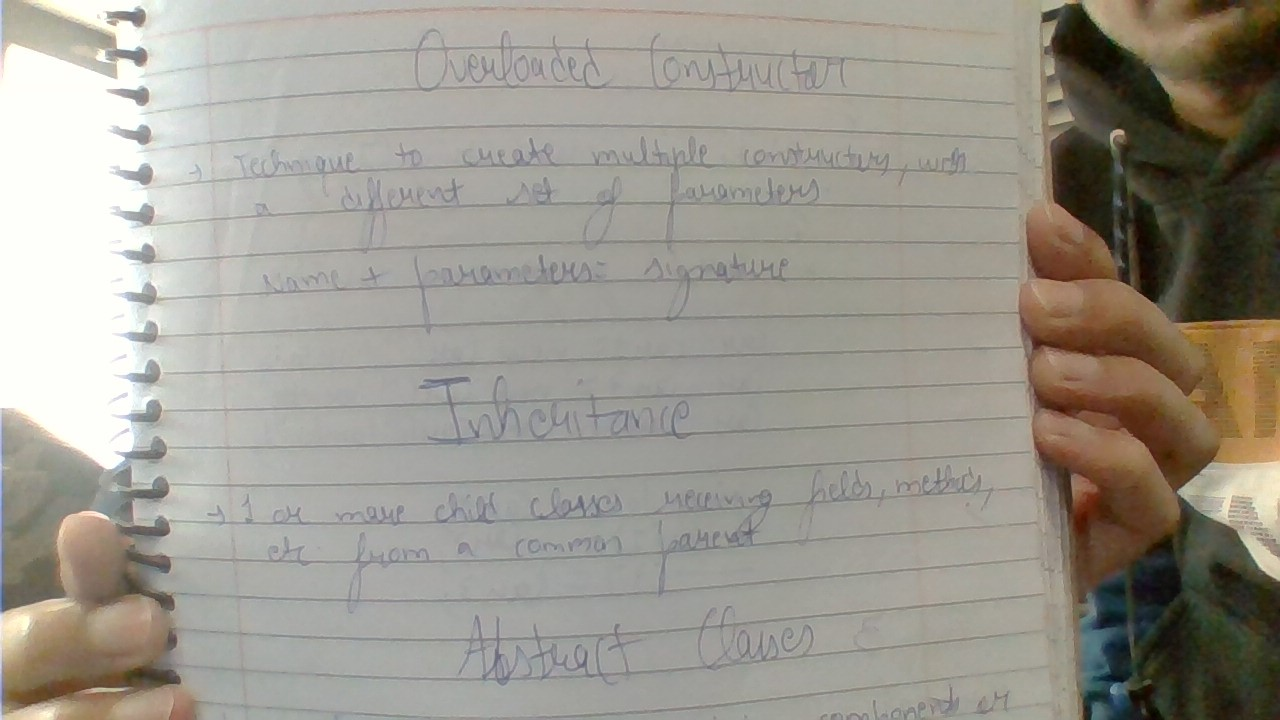partial: (101, 1, 1092, 717)
